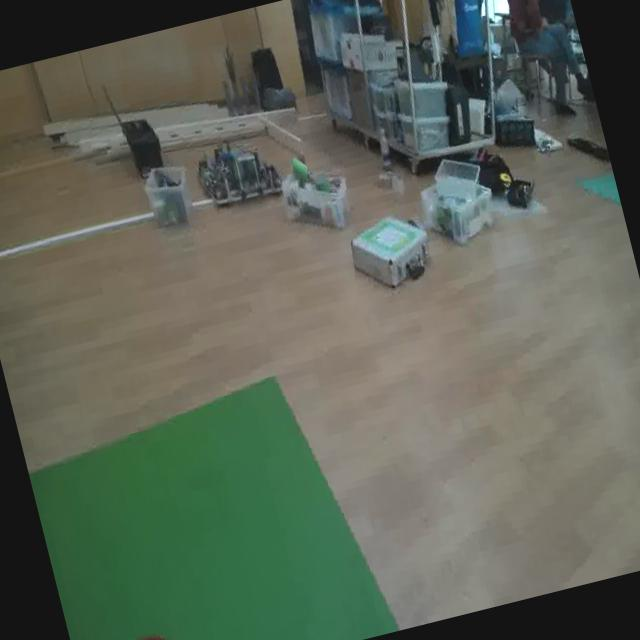red_ball: (85, 616, 210, 640)
